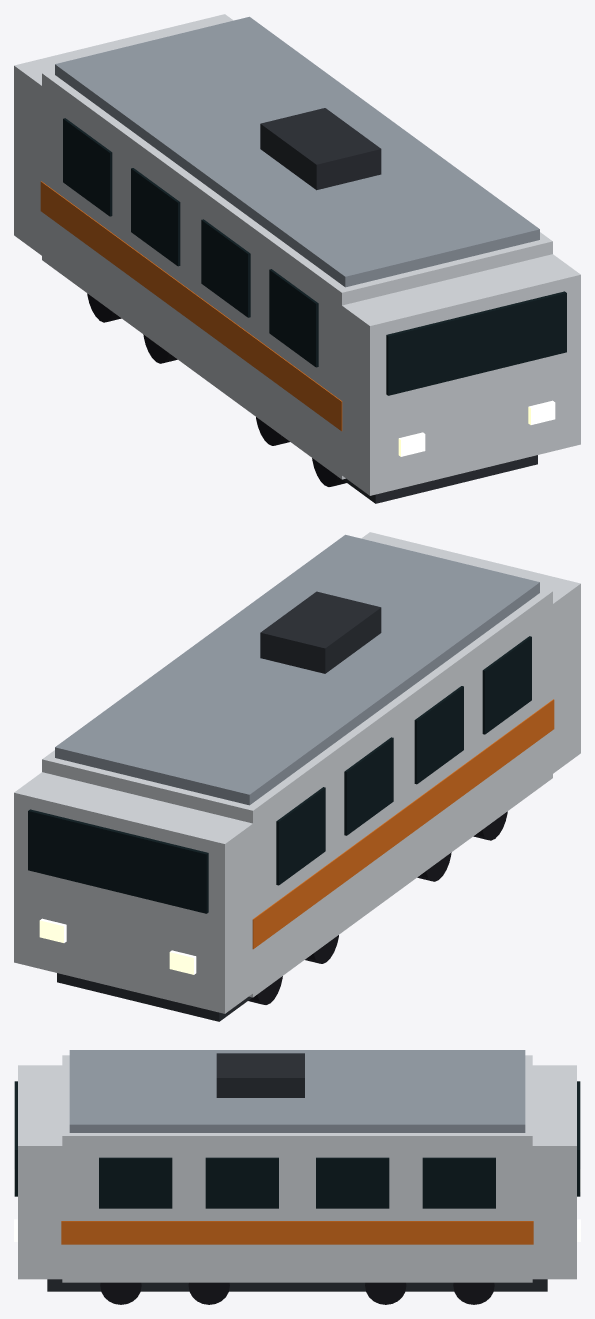
Rendered from tram.glb.
The picture shows the model from 3 angles, top to bottom: view 1: azimuth 30°, elevation 25°; view 2: azimuth 150°, elevation 25°; view 3: azimuth 270°, elevation 25°; orthographic projection. The views are drawn at different scales.
Visible parts, largest first — view 1: roof, nose, body, win, wind, stripe, pantograph, chassis, wheel, lamp; view 2: roof, nose, body, win, wind, stripe, pantograph, chassis, wheel, lamp; view 3: body, roof, nose, win, stripe, pantograph, chassis, wheel, wind.
Boxes of the visible parts, bbox=[...] form: roof: bbox=[55, 16, 539, 287]; nose: bbox=[14, 14, 580, 495]; body: bbox=[42, 70, 552, 479]; win: bbox=[63, 118, 318, 367]; wind: bbox=[386, 291, 566, 395]; stripe: bbox=[40, 181, 342, 431]; pantograph: bbox=[260, 108, 381, 190]; chassis: bbox=[342, 455, 537, 503]; wheel: bbox=[87, 293, 346, 486]; lamp: bbox=[398, 400, 555, 456]; roof: bbox=[55, 534, 539, 805]; nose: bbox=[14, 532, 580, 1013]; body: bbox=[42, 588, 552, 997]; win: bbox=[276, 636, 531, 885]; wind: bbox=[28, 809, 208, 913]; stripe: bbox=[252, 699, 554, 949]; pantograph: bbox=[260, 591, 381, 673]; chassis: bbox=[57, 973, 252, 1021]; wheel: bbox=[248, 811, 507, 1004]; lamp: bbox=[39, 918, 196, 974]; body: bbox=[62, 1055, 532, 1282]; roof: bbox=[69, 1050, 525, 1132]; nose: bbox=[18, 1065, 576, 1279]; win: bbox=[99, 1157, 495, 1208]; stripe: bbox=[61, 1221, 533, 1244]; pantograph: bbox=[216, 1053, 304, 1097]; chassis: bbox=[47, 1279, 547, 1291]; wheel: bbox=[100, 1282, 494, 1304]; wind: bbox=[14, 1081, 580, 1196].
Bounding box in the file's own units: 2.66 × 3.1 × 7.71.
